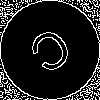C: (25, 25, 81, 84)
